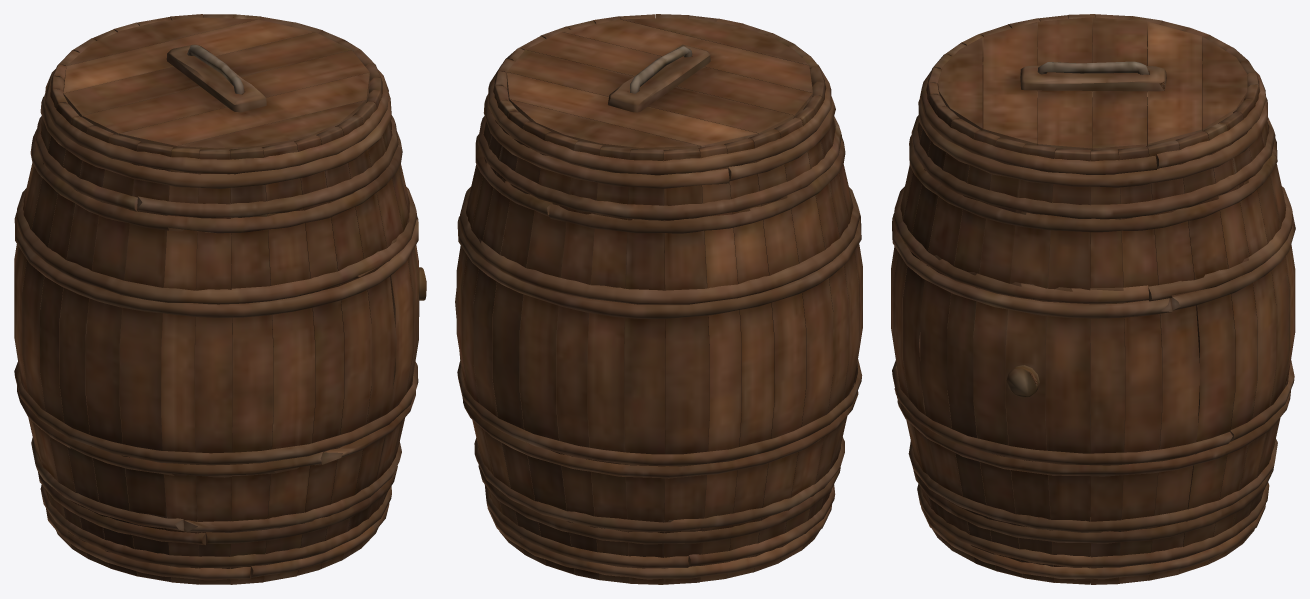
Rendered from wooden_barrels_01.glb.
The picture shows the model from 3 angles, left to right: view 1: azimuth 30°, elevation 25°; view 2: azimuth 150°, elevation 25°; view 3: azimuth 270°, elevation 25°; orthographic projection.
Visible parts, largest first — view 1: wooden_barrels_01_barrel01; view 2: wooden_barrels_01_barrel01; view 3: wooden_barrels_01_barrel01.
Part boxes in pixels (bbox=[...]): wooden_barrels_01_barrel01: bbox=[14, 14, 426, 584]; wooden_barrels_01_barrel01: bbox=[455, 14, 862, 584]; wooden_barrels_01_barrel01: bbox=[891, 14, 1295, 584].
Size of the model in its own units: 0.7401 by 0.9168 by 0.7386.
1 material, 1 textured.
